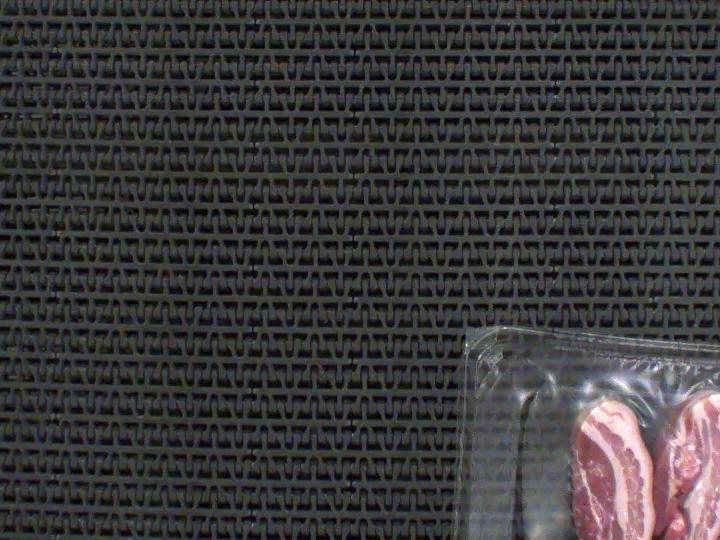unsealed: (482, 342, 720, 540)
